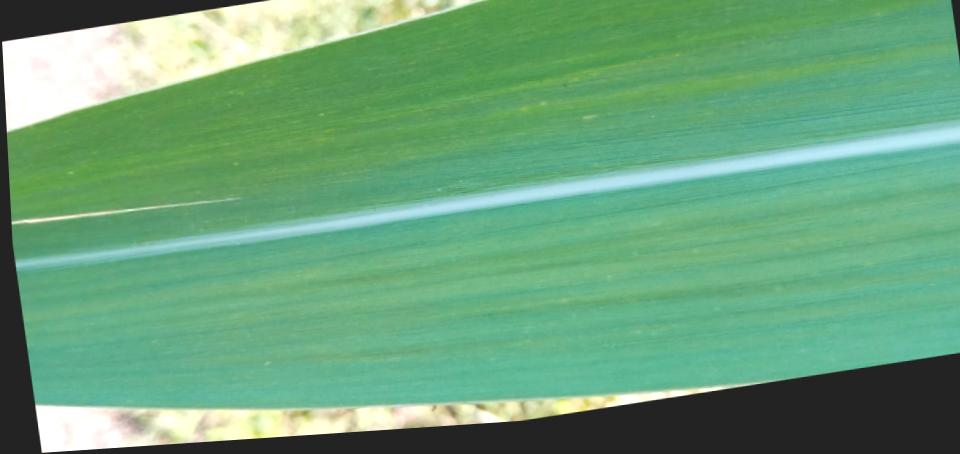Healthy: (7, 0, 960, 408)
